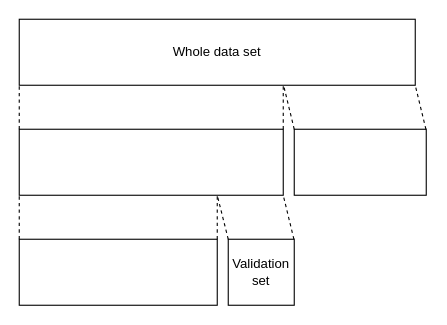
Some shapes in this 447 by 325 pixel diagram are drawn without their labels. Each missing label, with the box of its shape:
Testing set: (293, 128, 426, 195)
Training set: (18, 238, 217, 305)
